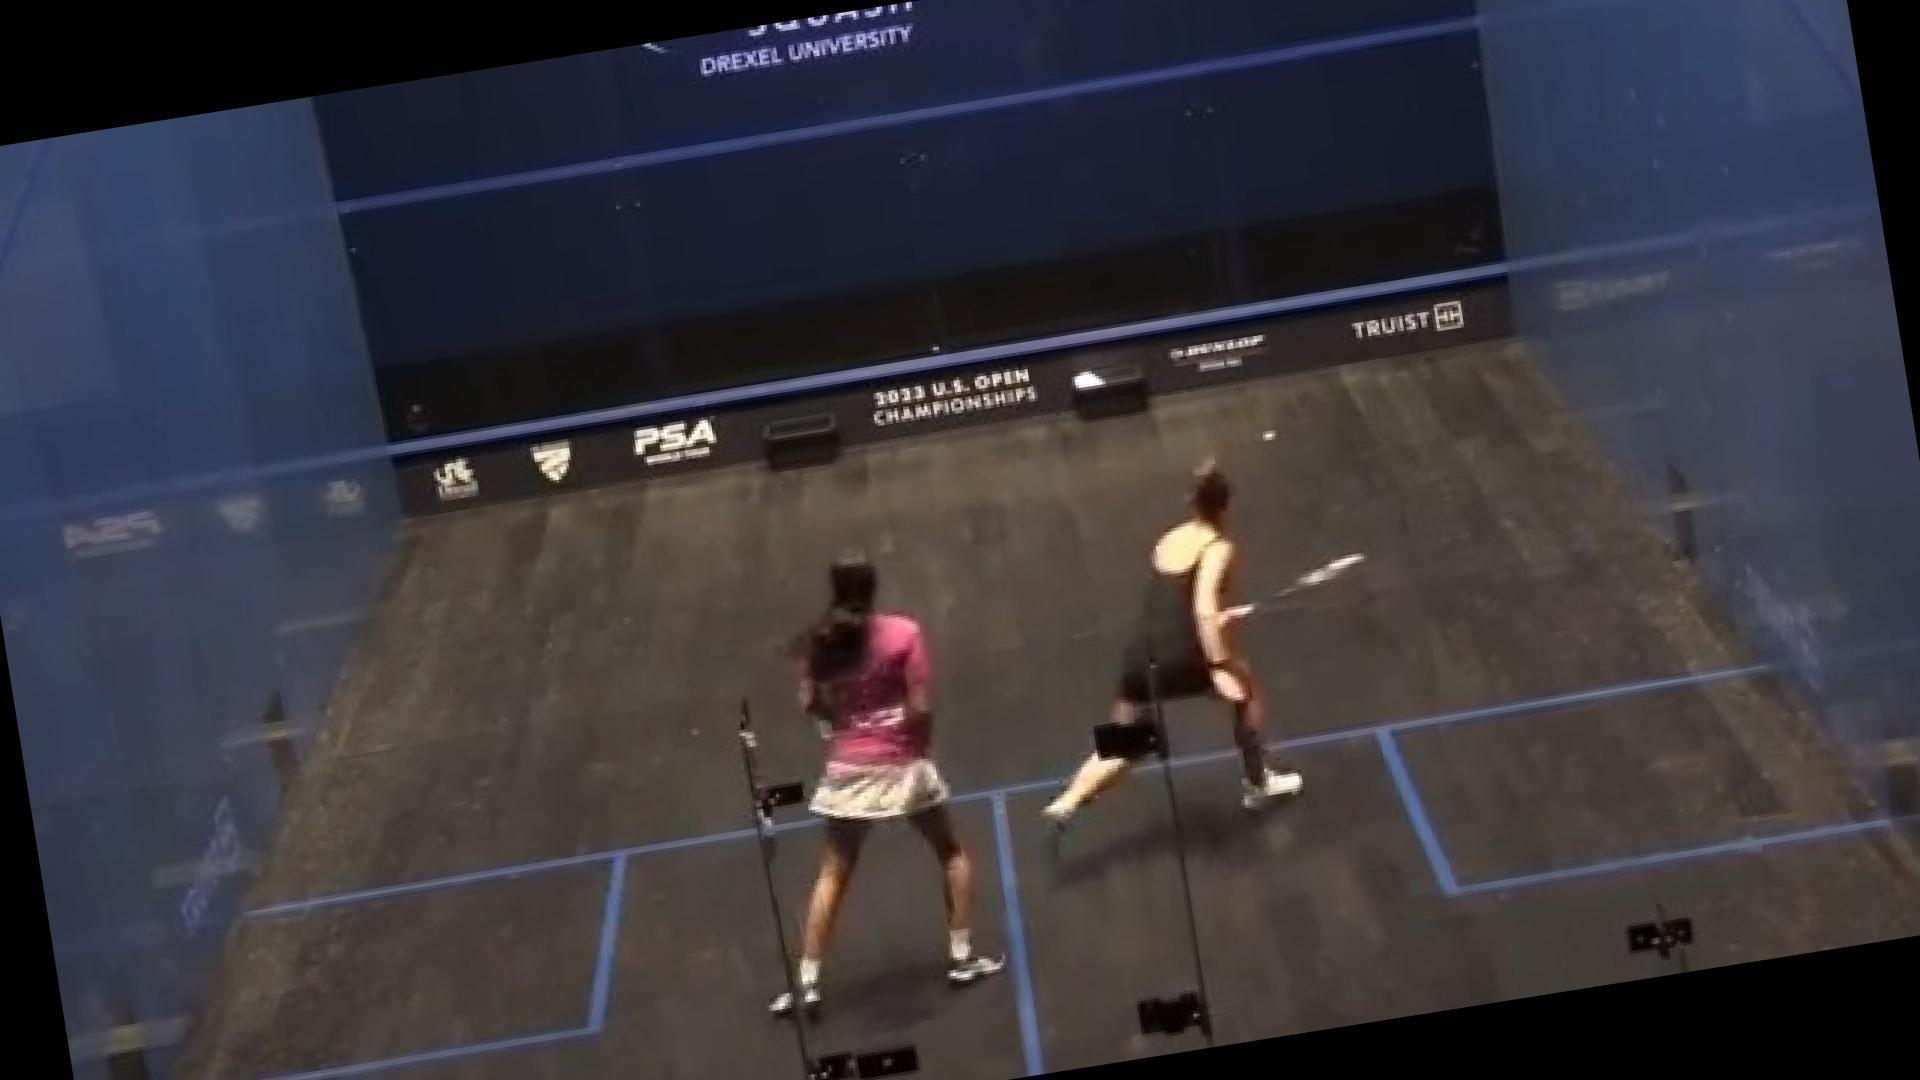Squash-Ball: (1228, 391, 1310, 482)
